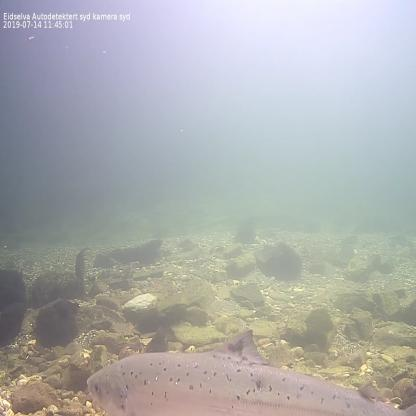salmon: (82, 324, 416, 416)
